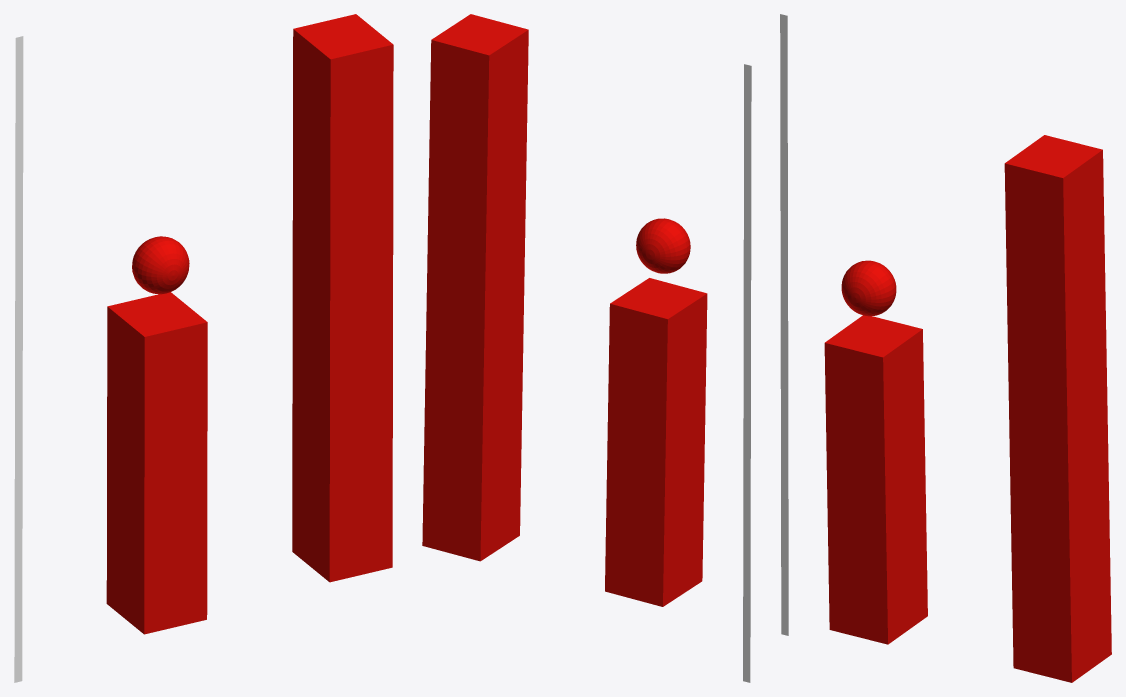
The picture shows the model from 3 angles, left to right: view 1: azimuth 30°, elevation 25°; view 2: azimuth 150°, elevation 25°; view 3: azimuth 330°, elevation 25°; orthographic projection. The views are drawn at different scales.
Visible parts, largest first — view 1: Mesh_0.001, Mesh_0.006, Плоскость, Сфера; view 2: Mesh_0.001, Mesh_0.006, Плоскость, Сфера; view 3: Mesh_0.001, Mesh_0.006, Плоскость, Сфера.
Part boxes in pixels (x1,y1,x2,y2): Mesh_0.001: (292,14,393,582); Mesh_0.006: (106,292,207,634); Плоскость: (14,36,23,682); Сфера: (132,236,189,294); Mesh_0.001: (422,14,528,561); Mesh_0.006: (605,278,707,606); Плоскость: (743,64,751,682); Сфера: (636,218,690,273); Mesh_0.001: (1004,135,1111,682); Mesh_0.006: (824,315,927,644); Плоскость: (780,14,788,635); Сфера: (841,260,896,316).
Size of the model in its own units: 5.2 by 9.38 by 1.22.
